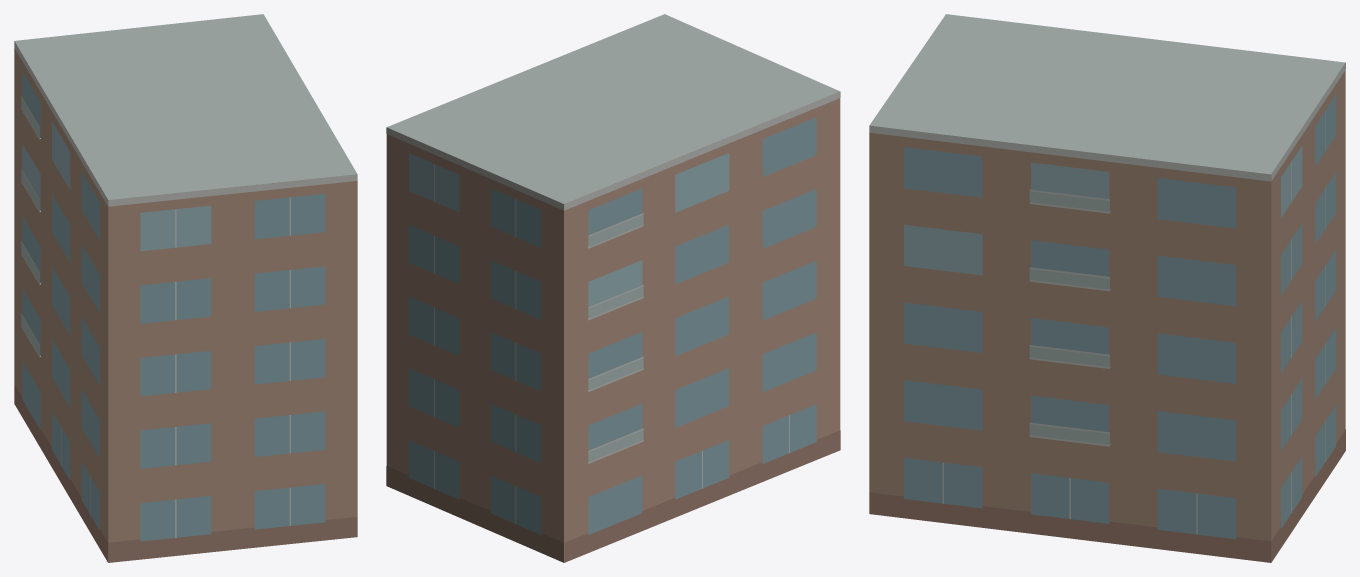
Rendered from survey-upis-33030076.glb.
3 renders of one model, left to right at view 1: azimuth 30°, elevation 25°; view 2: azimuth 150°, elevation 25°; view 3: azimuth 270°, elevation 25°, orthographic. The views are drawn at different scales.
Parts seen in each view (by area): view 1: survey-upis-33030076.tmp; view 2: survey-upis-33030076.tmp; view 3: survey-upis-33030076.tmp.
Boxes of the visible parts, left/top/right/bottom form: survey-upis-33030076.tmp: left=14, top=14, right=357, bottom=562; survey-upis-33030076.tmp: left=386, top=14, right=840, bottom=562; survey-upis-33030076.tmp: left=869, top=14, right=1345, bottom=562.
Bounding box in the file's own units: 11.88 × 13.4 × 14.91.
